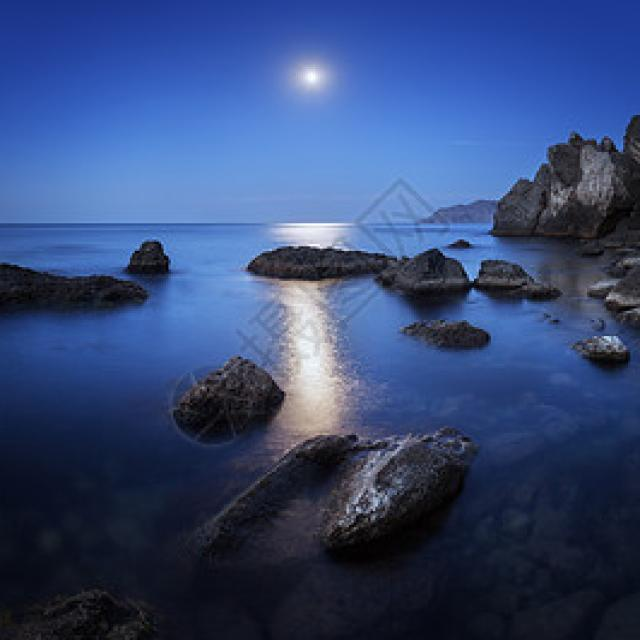reef: (266, 216, 510, 327), (0, 230, 207, 304), (146, 323, 276, 424)
